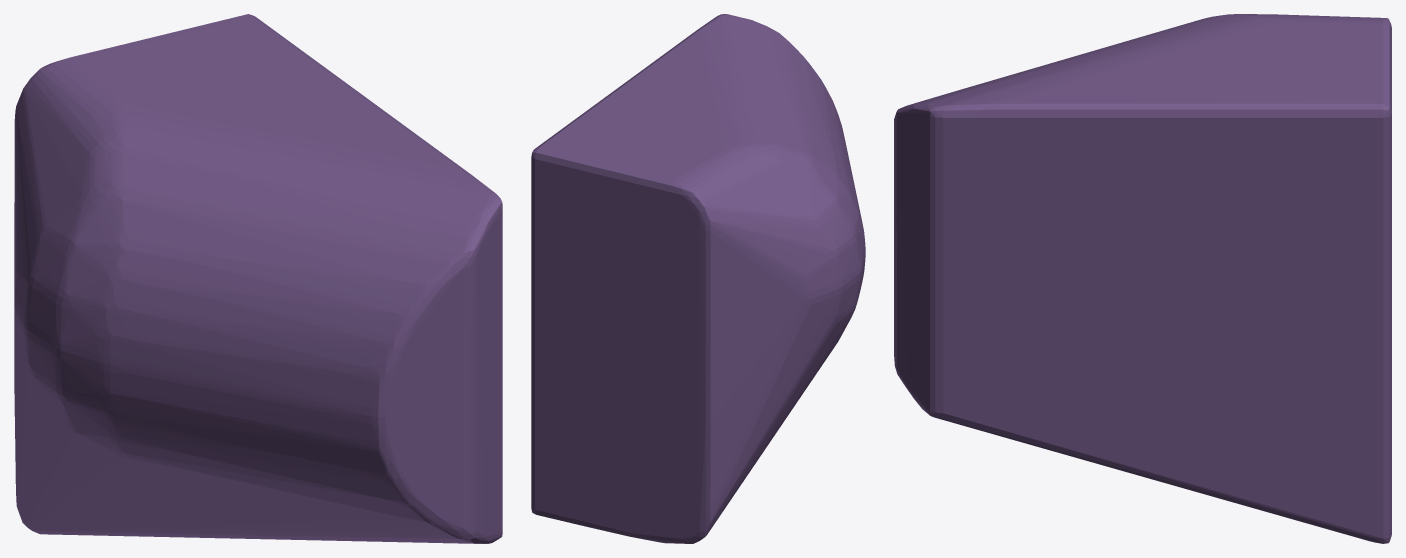
Rendered from left_palm_part_1.obj.
3 views of the same model, side by side, from view 1: azimuth 30°, elevation 25°; view 2: azimuth 150°, elevation 25°; view 3: azimuth 270°, elevation 25° (orthographic). The views are drawn at different scales.
Bounding box in the file's own units: 21.59 × 31.27 × 32.02.
